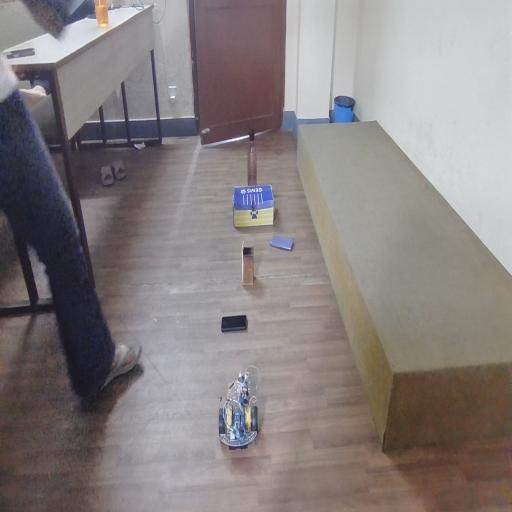Bottle: (240, 115, 262, 183)
car: (213, 369, 273, 470)
